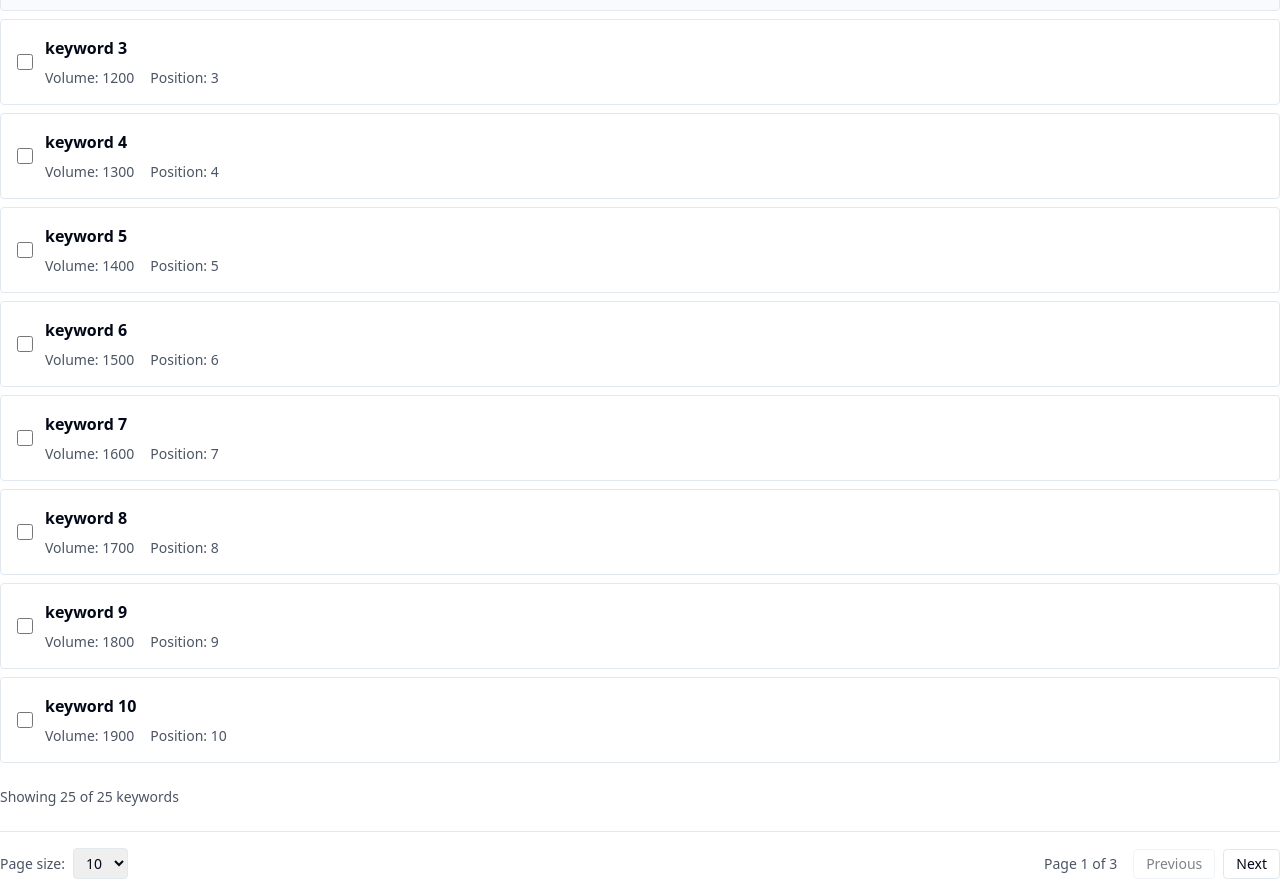
Test: KeywordDashboard Component › Pagination › should disable next button on last page
This screenshot has width=1280, height=879.
(page scrolled)
Note: Navigate to last page (page 3)
Click the button with test id "next-page-button" at (1252, 864), box [1223,848,1279,878]
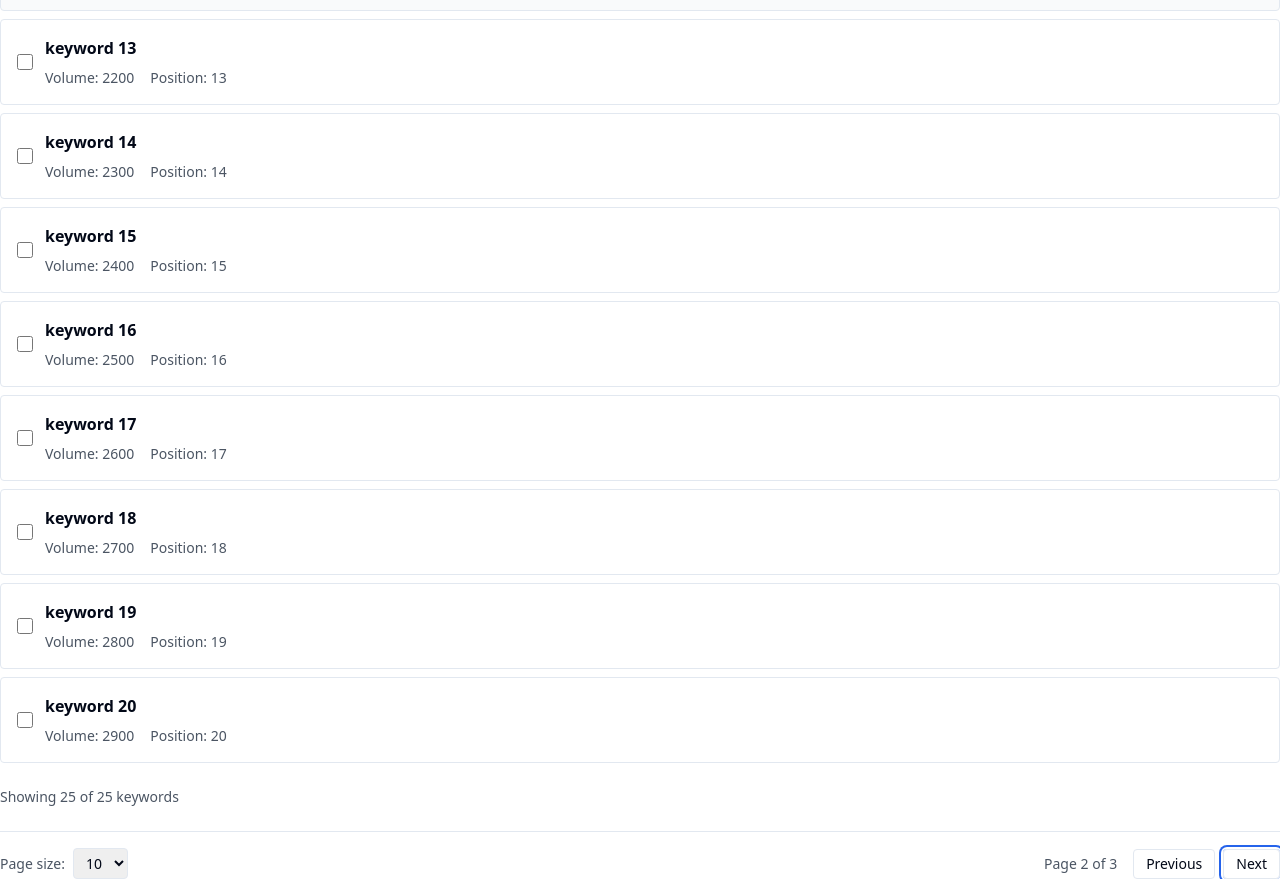
Click the button with test id "next-page-button" at (1252, 864), box [1223,848,1279,878]
(page scrolled)
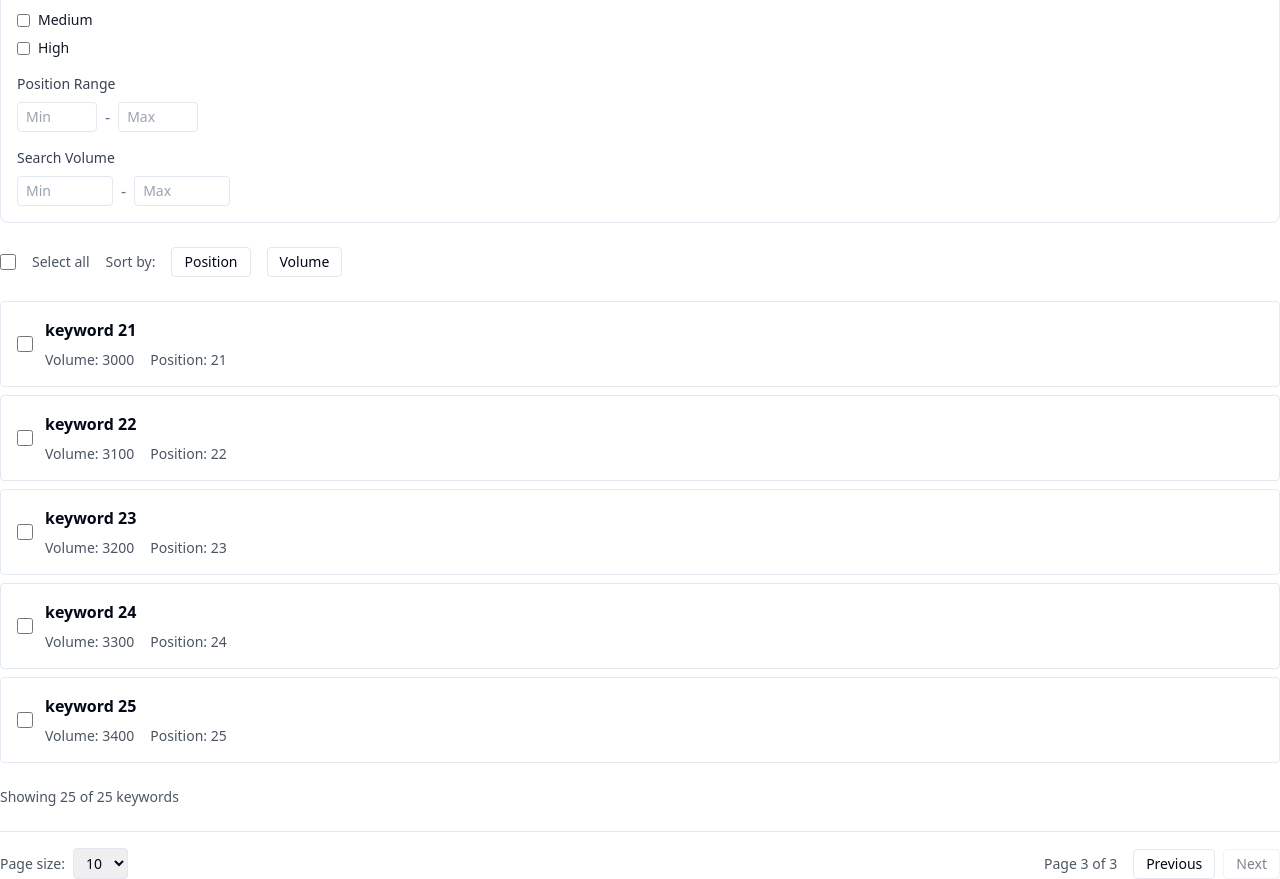
Now the button with test id "next-page-button" is disabled, box [1223,848,1279,878]
